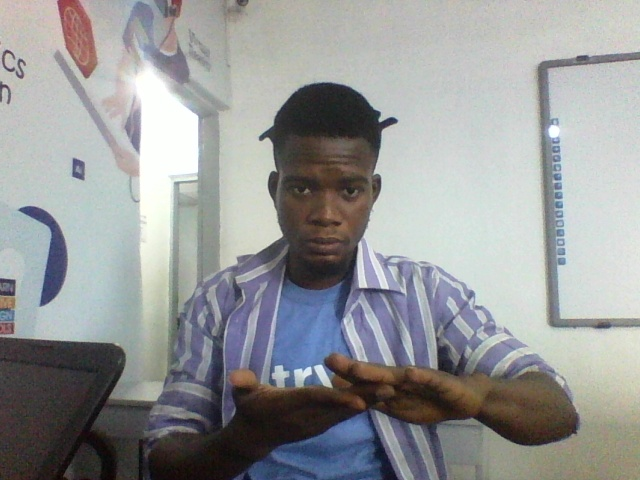nice_to_meet_you: (207, 358, 543, 460)
